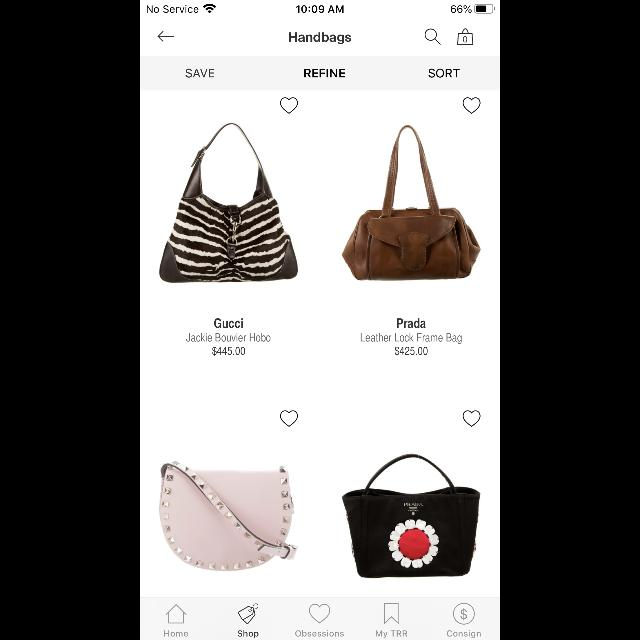icon: (454, 604, 474, 624), (238, 604, 258, 624), (166, 604, 187, 622), (310, 604, 330, 622), (384, 602, 398, 624), (280, 410, 298, 426), (280, 97, 298, 113), (464, 410, 481, 426), (464, 97, 481, 113), (425, 29, 441, 45), (158, 31, 174, 41)
image: (160, 123, 298, 283), (342, 125, 481, 281), (342, 454, 480, 578), (160, 461, 298, 571)
text: (361, 334, 462, 344), (289, 32, 351, 44), (186, 334, 270, 342), (394, 346, 428, 356), (212, 346, 245, 356), (304, 69, 344, 77), (428, 68, 459, 78), (296, 630, 344, 636), (397, 318, 425, 328), (214, 318, 242, 328), (186, 68, 214, 78), (447, 630, 481, 638), (457, 28, 473, 44), (376, 630, 406, 638), (238, 630, 258, 638), (164, 630, 188, 636)
uppertaskbar: (140, 0, 500, 14)
